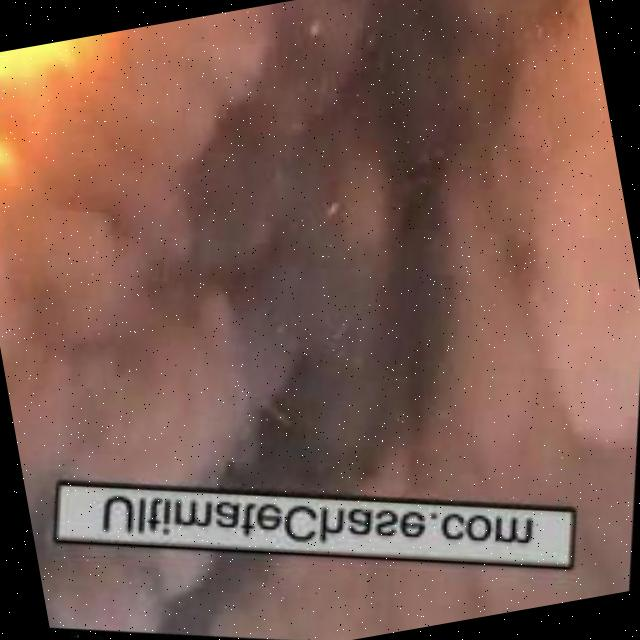fire: (0, 25, 180, 242)
